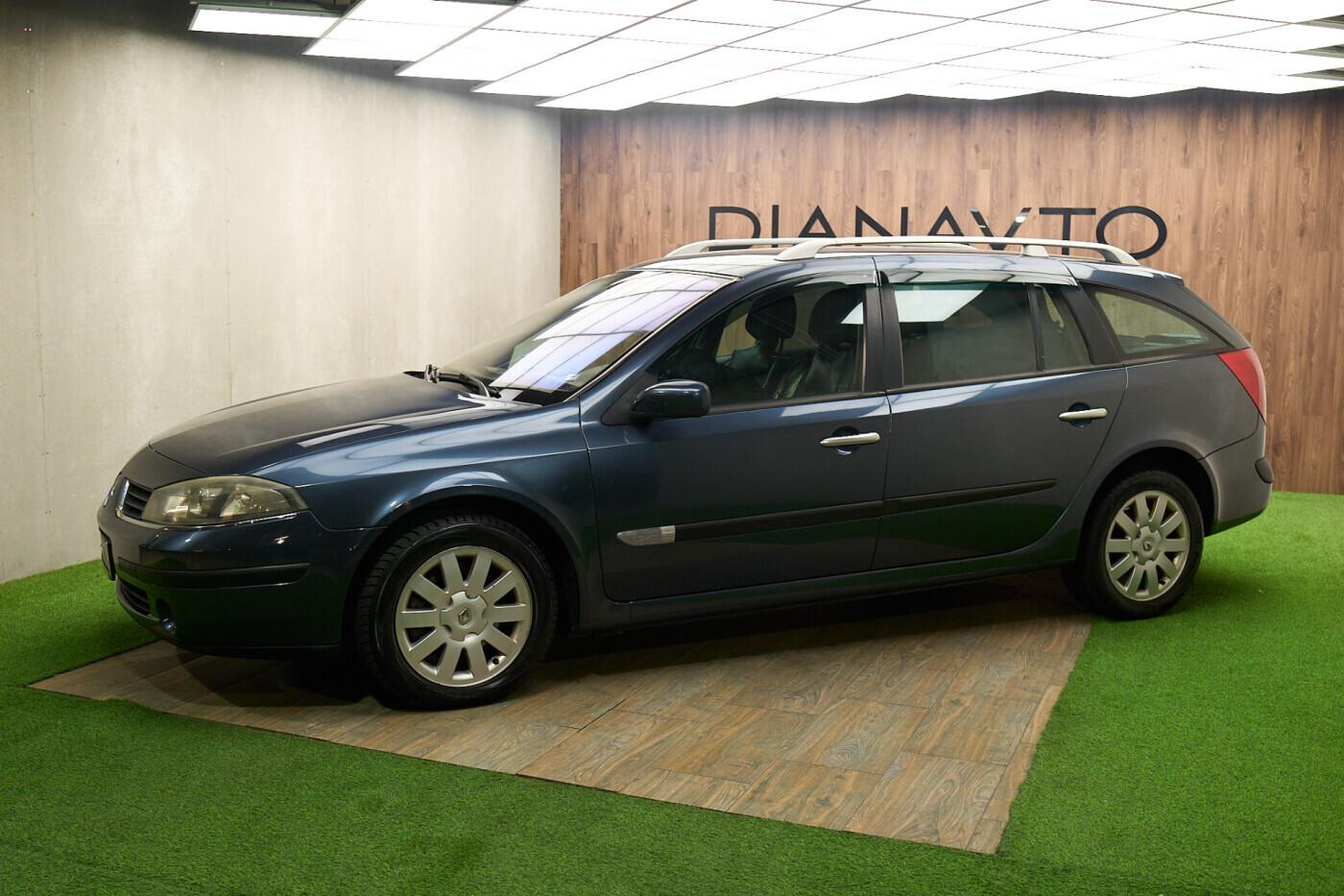Laguna_2005-2007: (95, 224, 1276, 707)
